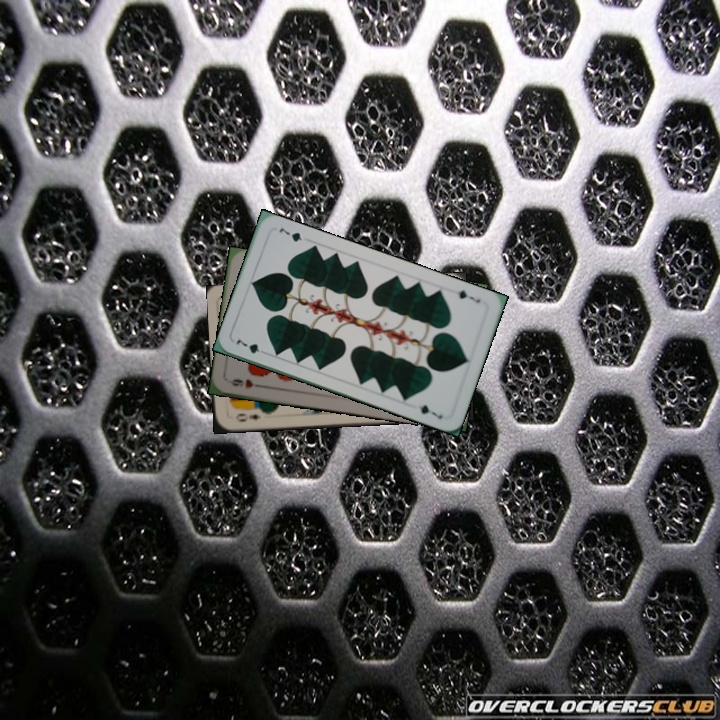EO: (232, 409, 263, 424)
G7: (232, 334, 270, 357), (454, 286, 483, 305)
H9: (225, 375, 266, 391)
